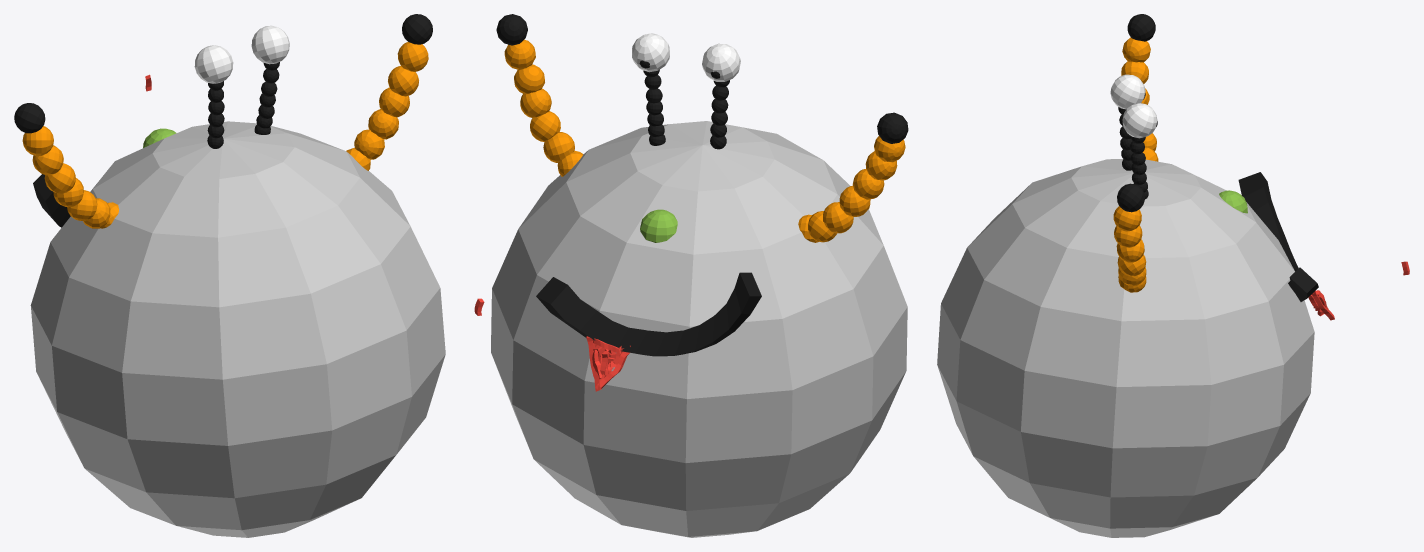
The picture shows the model from 3 angles, left to right: view 1: azimuth 30°, elevation 25°; view 2: azimuth 150°, elevation 25°; view 3: azimuth 270°, elevation 25°; orthographic projection. The views are drawn at different scales.
Visible parts, largest first — view 1: mesh_1254605880, mesh_1641840404, mesh_923929487, group_472090643, mesh_1513837909, mesh_575777884, mesh_791388648, mesh_1543061013, mesh_590990726, mesh_1622647077, mesh_868422073, mesh_61071051 (+3 smaller); view 2: mesh_1254605880, group_472090643, mesh_1641840404, mesh_923929487, mesh_1216499958, mesh_1513837909, mesh_575777884, mesh_791388648, mesh_1543061013, mesh_1622647077, mesh_61071051, mesh_868422073 (+6 smaller); view 3: mesh_1254605880, group_472090643, mesh_923929487, mesh_1641840404, mesh_575777884, mesh_1513837909, mesh_590990726.
Part boxes in pixels (box(x1,y1,x2,y2)): mesh_1254605880: box(30, 121, 445, 537); mesh_1641840404: box(194, 45, 233, 83); mesh_923929487: box(251, 25, 289, 64); group_472090643: box(33, 174, 70, 227); mesh_1513837909: box(14, 103, 45, 133); mesh_575777884: box(402, 14, 432, 44); mesh_791388648: box(397, 42, 428, 71); mesh_1543061013: box(388, 66, 418, 96); mesh_590990726: box(22, 126, 53, 155); mesh_1622647077: box(368, 109, 398, 139); mesh_868422073: box(354, 129, 384, 159); mesh_61071051: box(379, 87, 409, 117); mesh_1254605880: box(491, 121, 907, 537); group_472090643: box(536, 272, 761, 356); mesh_1641840404: box(702, 43, 740, 81); mesh_923929487: box(632, 33, 669, 72); mesh_1216499958: box(640, 209, 677, 242); mesh_1513837909: box(877, 112, 908, 143); mesh_575777884: box(496, 14, 527, 45); mesh_791388648: box(504, 39, 535, 69); mesh_1543061013: box(514, 64, 544, 94); mesh_1622647077: box(530, 111, 560, 141); mesh_61071051: box(520, 88, 551, 117); mesh_868422073: box(543, 132, 574, 162); mesh_1254605880: box(937, 159, 1314, 537); group_472090643: box(1238, 172, 1318, 301); mesh_923929487: box(1122, 103, 1157, 138); mesh_1641840404: box(1110, 74, 1145, 109); mesh_575777884: box(1117, 183, 1144, 212); mesh_1513837909: box(1127, 14, 1155, 41); mesh_590990726: box(1122, 37, 1150, 62).
Bounding box in the file's own units: 255 × 284 × 281.
